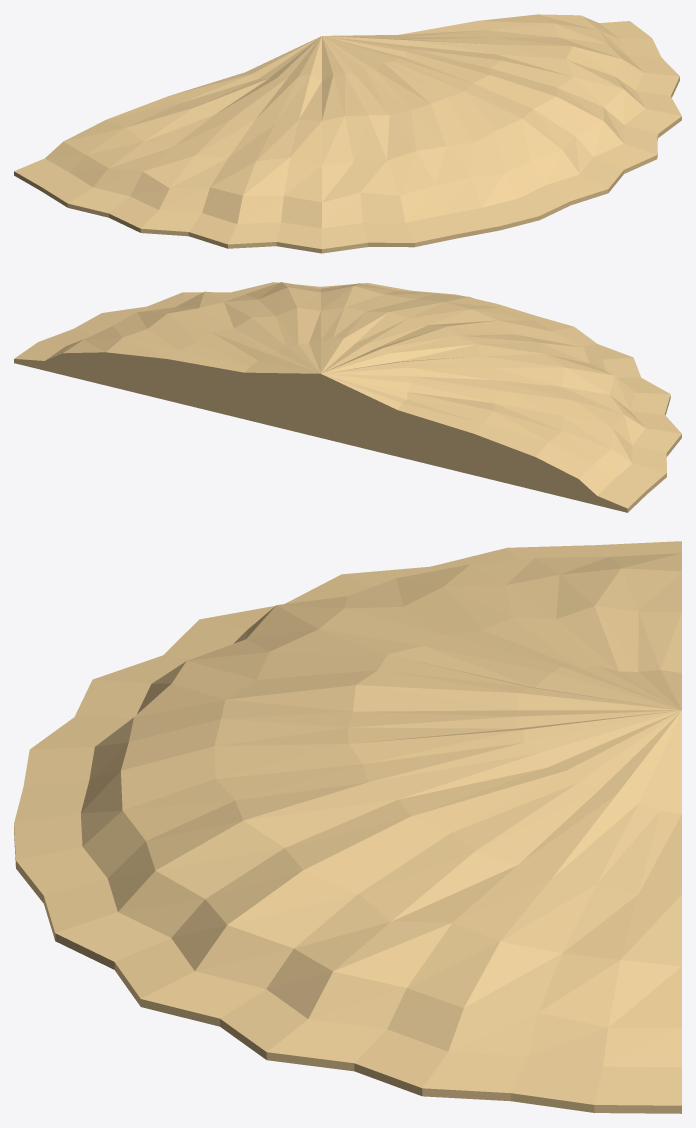
The model's file is ClosedRawQutab.obj.
The picture shows the model from 3 angles, top to bottom: view 1: azimuth 30°, elevation 25°; view 2: azimuth 150°, elevation 25°; view 3: azimuth 270°, elevation 25°; orthographic projection. The views are drawn at different scales.
Parts seen in each view (by area): view 1: ClosedQutab; view 2: ClosedQutab; view 3: ClosedQutab.
Part boxes in pixels (box(x1,y1,x2,y2)): ClosedQutab: box(14, 14, 681, 253); ClosedQutab: box(14, 282, 681, 512); ClosedQutab: box(14, 541, 681, 1113).
Size of the model in its own units: 0.3 by 0.03 by 0.15.
